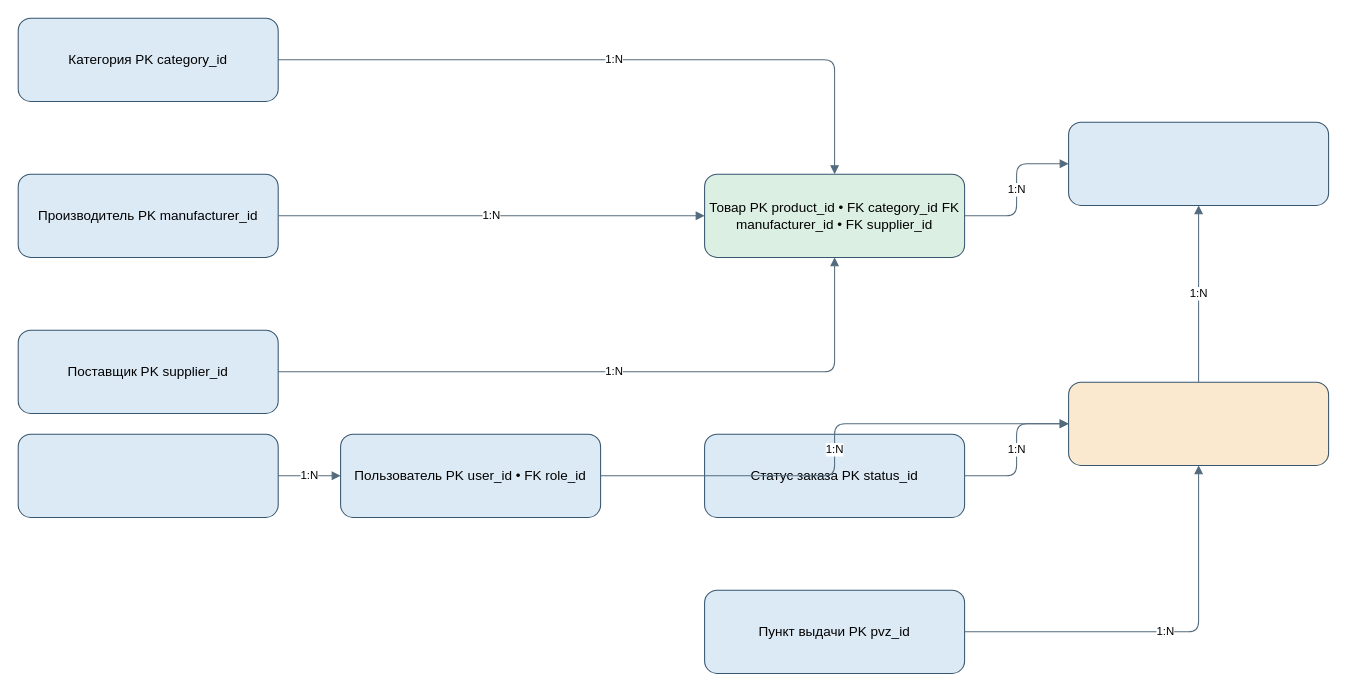
This 1347x692 diagram has some shape labels left out. Each missing label, with the centre of its shape:
"Заказ PK order_id • FK user_id FK status_id • FK pvz_id" belongs at point 1198,423.
"Роль PK role_id" belongs at point 147,475.
"Строка заказа PK line_id • FK order_id FK product_id" belongs at point 1198,163.
